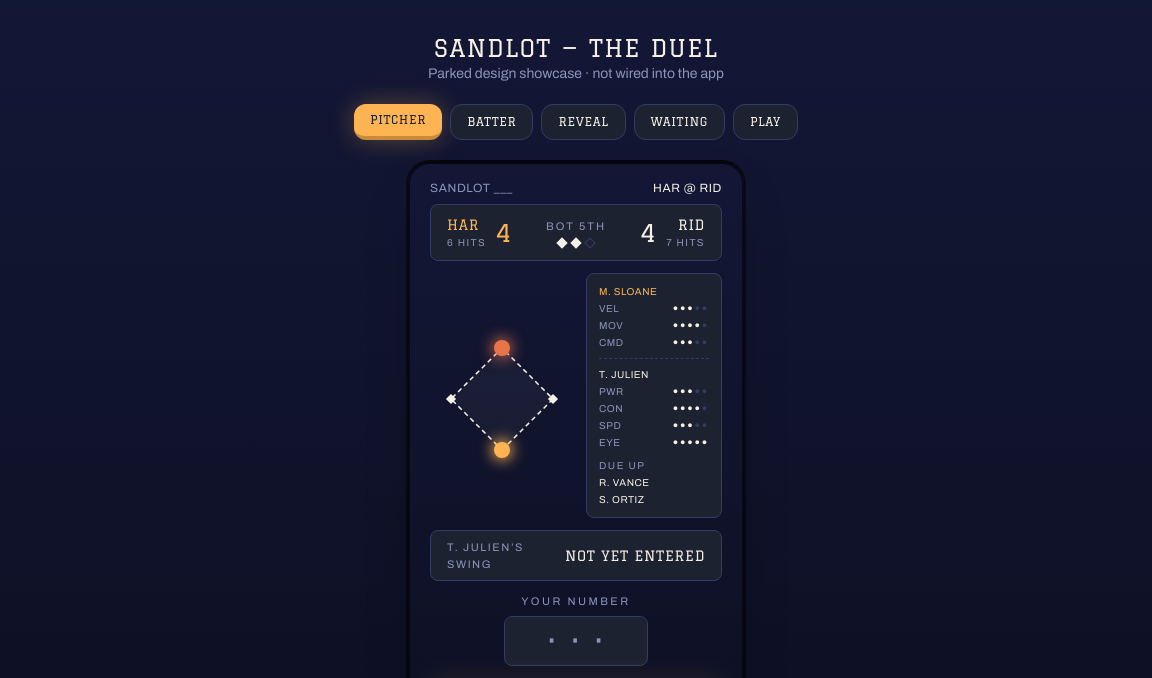
Test case: DesignShowcase › starts on the pitcher seat with the lock disabled until a valid number
Type "472" into the field labelled "your number" at {"x": 576, "y": 640}, box [504,616,648,666]
(page scrolled)
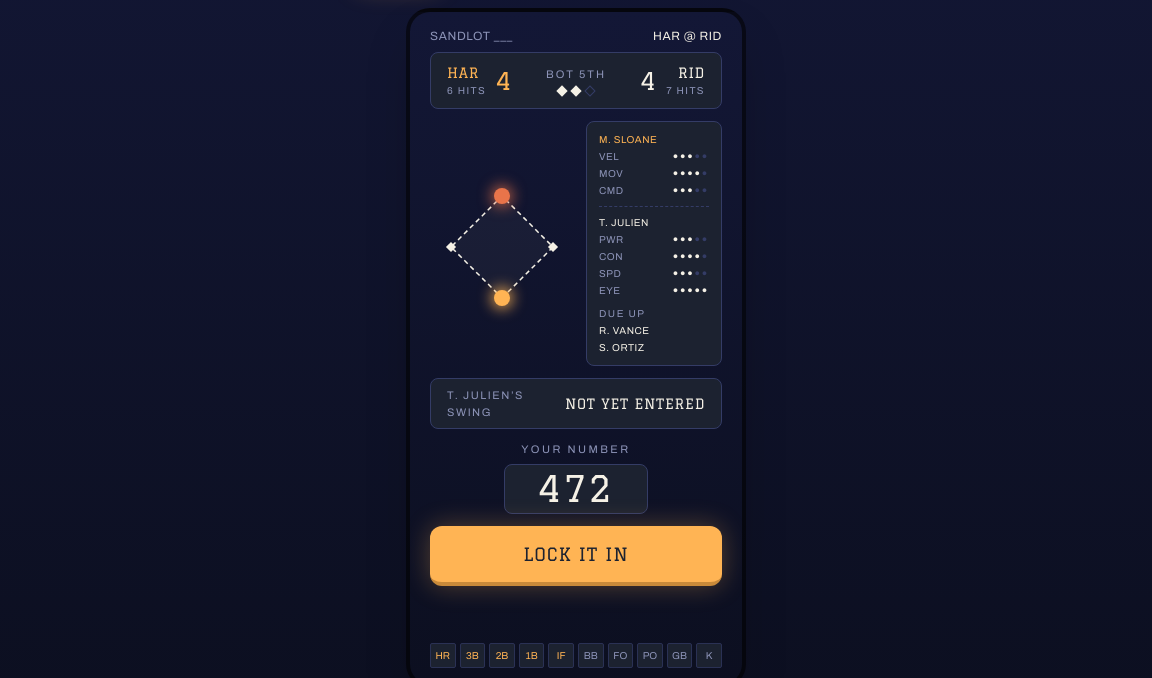
Check: the button "LOCK IT IN" is enabled, box [430,526,722,586]
